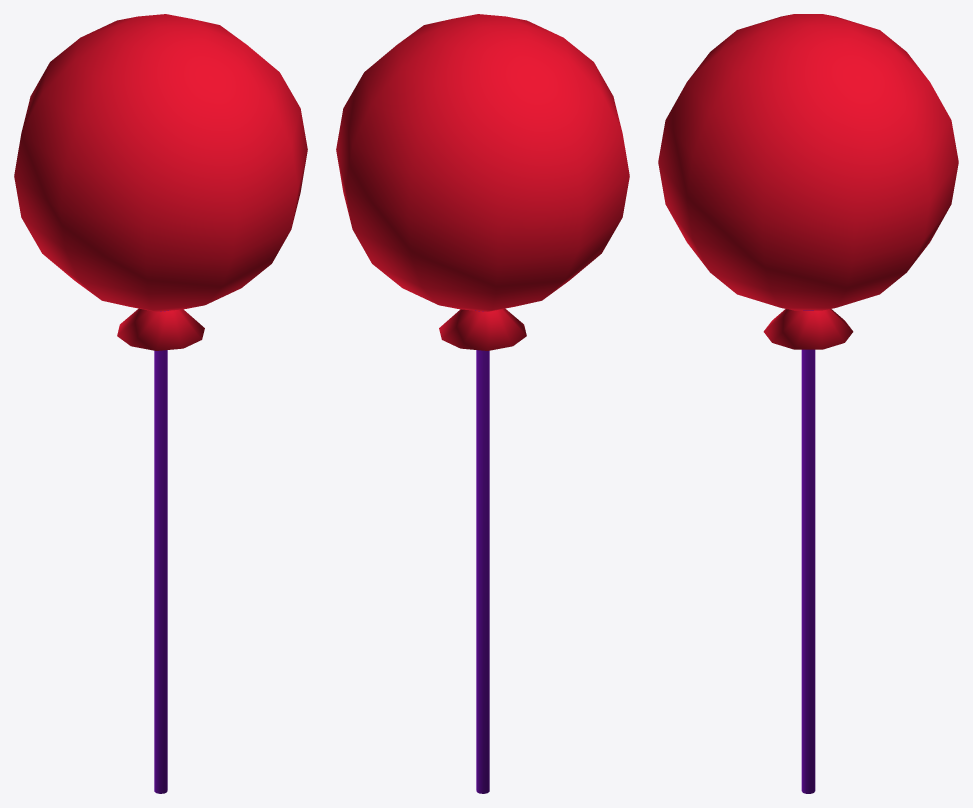
File: Balloon.fbx
3 views of the same model, side by side, from view 1: azimuth 30°, elevation 25°; view 2: azimuth 150°, elevation 25°; view 3: azimuth 270°, elevation 25° (orthographic).
Parts seen in each view (by area): view 1: Balloon; view 2: Balloon; view 3: Balloon.
Part boxes in pixels (box(x1,y1,x2,y2)): Balloon: box(14, 14, 307, 793); Balloon: box(336, 14, 629, 793); Balloon: box(658, 14, 958, 793).
Size of the model in its own units: 23.89 by 70.53 by 25.11.
